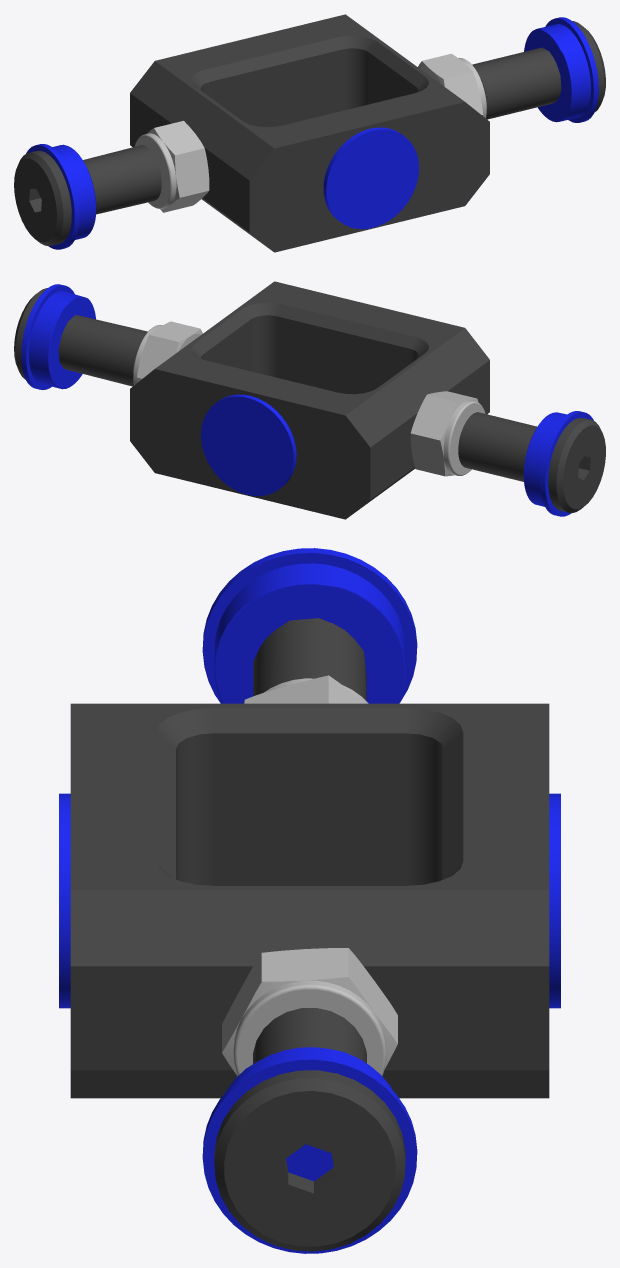
The model's file is l_wrist_center_link.dae.
3 renders of one model, top to bottom at view 1: azimuth 30°, elevation 25°; view 2: azimuth 150°, elevation 25°; view 3: azimuth 270°, elevation 25°, orthographic. The views are drawn at different scales.
Parts seen in each view (by area): view 1: FBXASC227FBXASC130FBXASC189FBXASC227FBXASC131FBXASC170FBXASC (×8); view 2: FBXASC227FBXASC130FBXASC189FBXASC227FBXASC131FBXASC170FBXASC (×8); view 3: FBXASC227FBXASC130FBXASC189FBXASC227FBXASC131FBXASC170FBXASC (×9).
Boxes of the visible parts, x1,y1,x2,y2 form: FBXASC227FBXASC130FBXASC189FBXASC227FBXASC131FBXASC170FBXASC (×8): (14, 14, 605, 252); FBXASC227FBXASC130FBXASC189FBXASC227FBXASC131FBXASC170FBXASC (×8): (14, 281, 605, 519); FBXASC227FBXASC130FBXASC189FBXASC227FBXASC131FBXASC170FBXASC (×9): (59, 548, 560, 1253).
Size of the model in its own units: 0.0662 by 0.0262 by 0.012.
